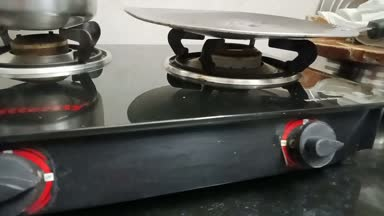flame_gas_off: (170, 32, 347, 171), (0, 21, 93, 212)
